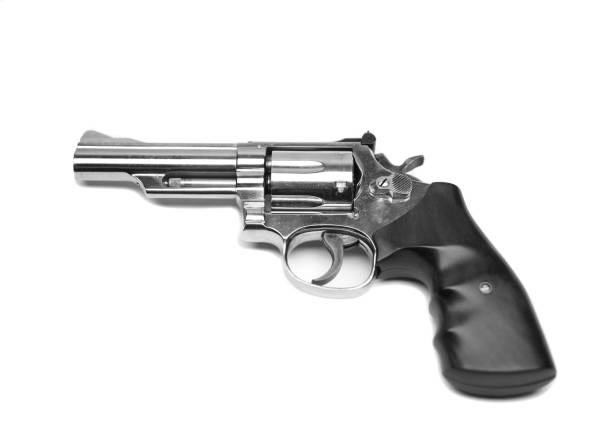pistol: (65, 120, 566, 404)
